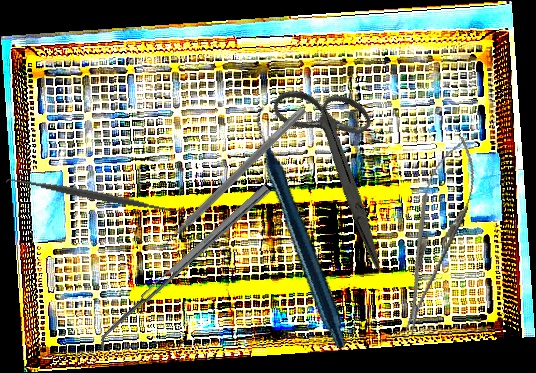Handpiece: (201, 105, 403, 350)
Iris Scissors: (230, 62, 451, 271)
Needle Holder: (385, 130, 487, 339)
Spatula Surgical: (91, 184, 278, 354), (150, 100, 307, 257), (4, 168, 186, 222)
